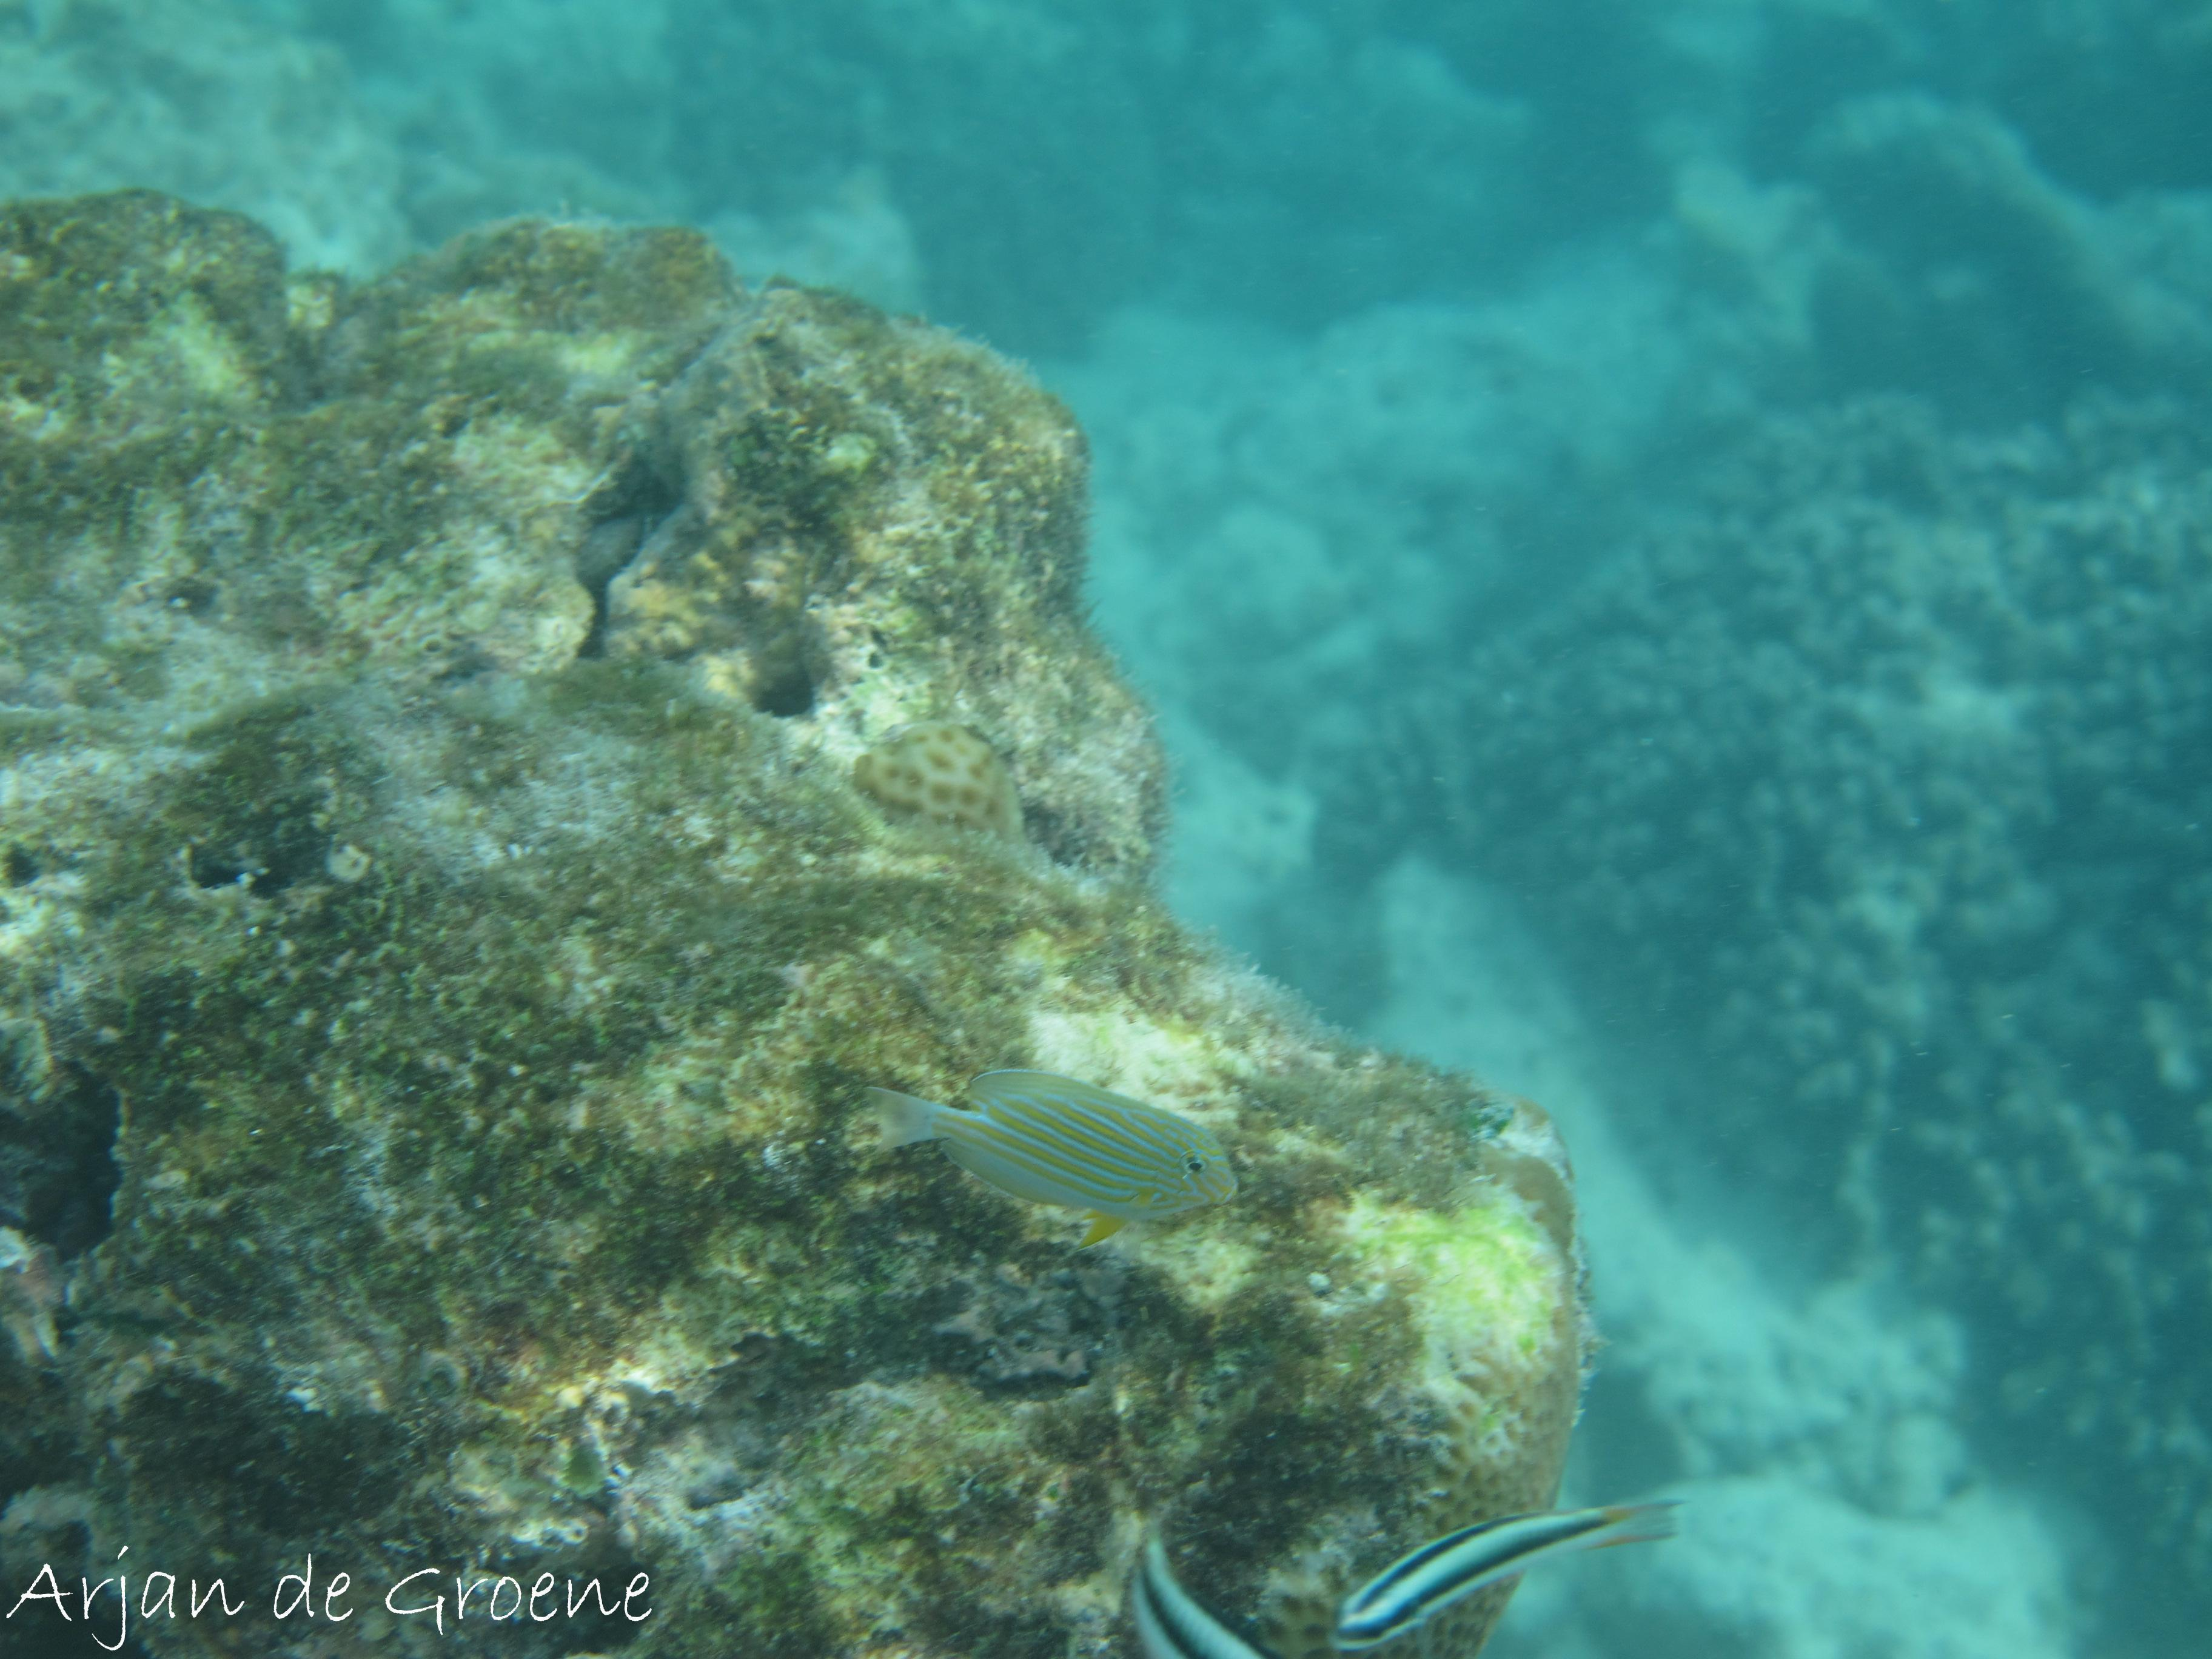Acanthurus lineatus: (700, 992, 1437, 1331)
